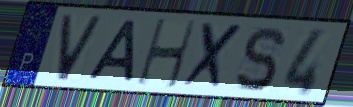4: (281, 25, 324, 98)
A: (83, 18, 140, 85)
H: (135, 17, 199, 91)
S: (233, 24, 287, 94)
V: (54, 13, 105, 83)
X: (179, 20, 246, 92)
